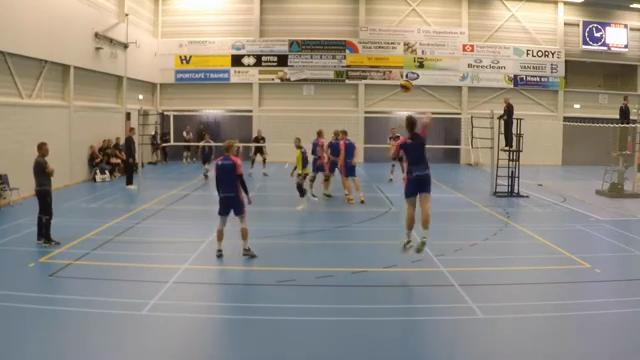battuta: (386, 107, 441, 259)
